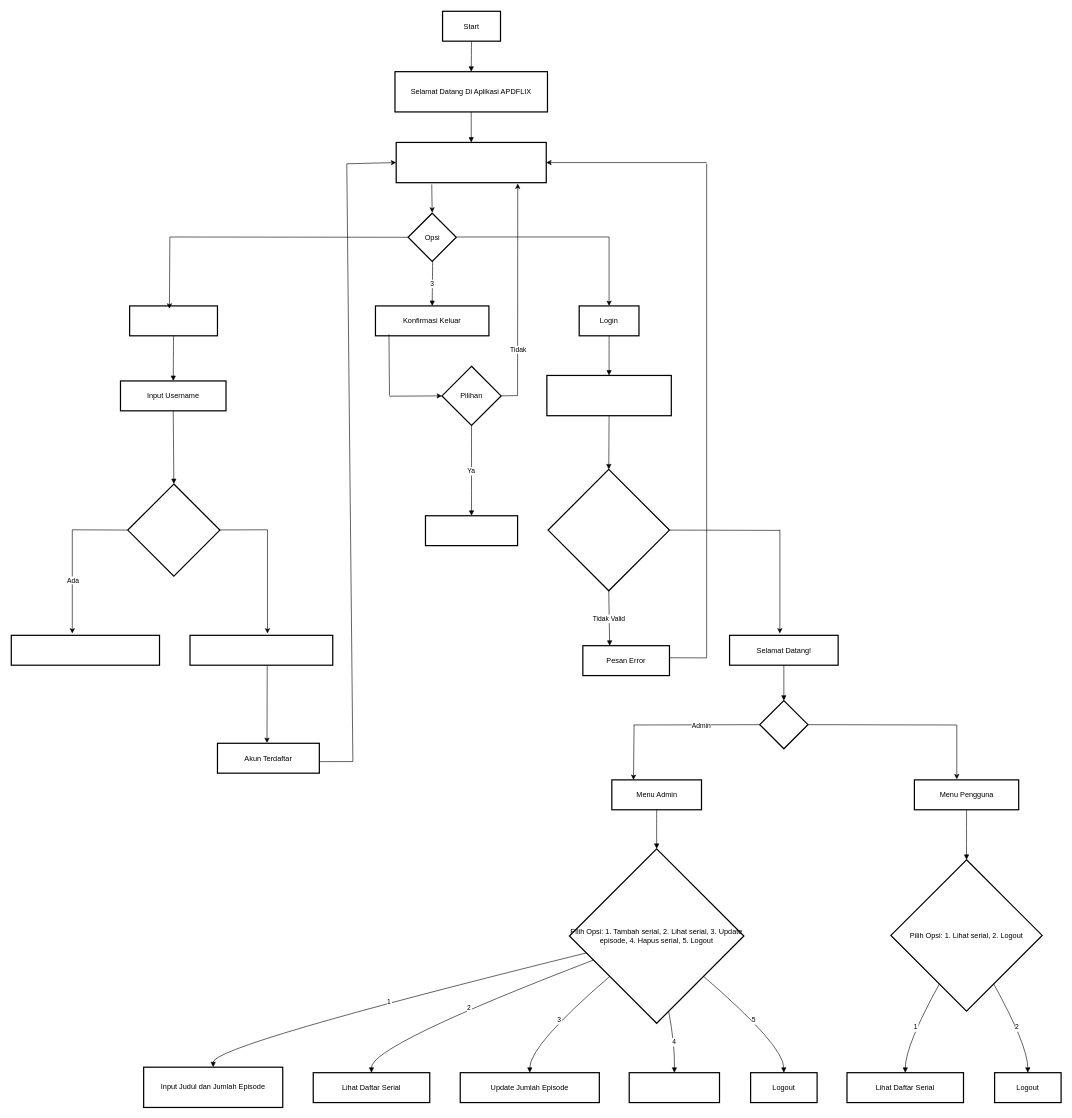
Image size: 1072x1118. Some labels were removed from this diagram. Each missing label, with the centre of its shape:
"Cek Username" goes at point 173,529.
"Cek Username dan Password" goes at point 608,529.
"Daftar Akun" goes at point 173,320.
"Hapus Serial" goes at point 674,1087.
"Input Password dan Role" goes at point 261,650.
"Input Username dan Password" goes at point 609,395.
"Pilih Opsi: 1. Daftar akun, 2. Login, 3. Exit" goes at point 471,162.
"Role" goes at point 783,724.
"Terima Kasih" goes at point 471,530.
"Username Sudah Terpakai" goes at point 85,650.
